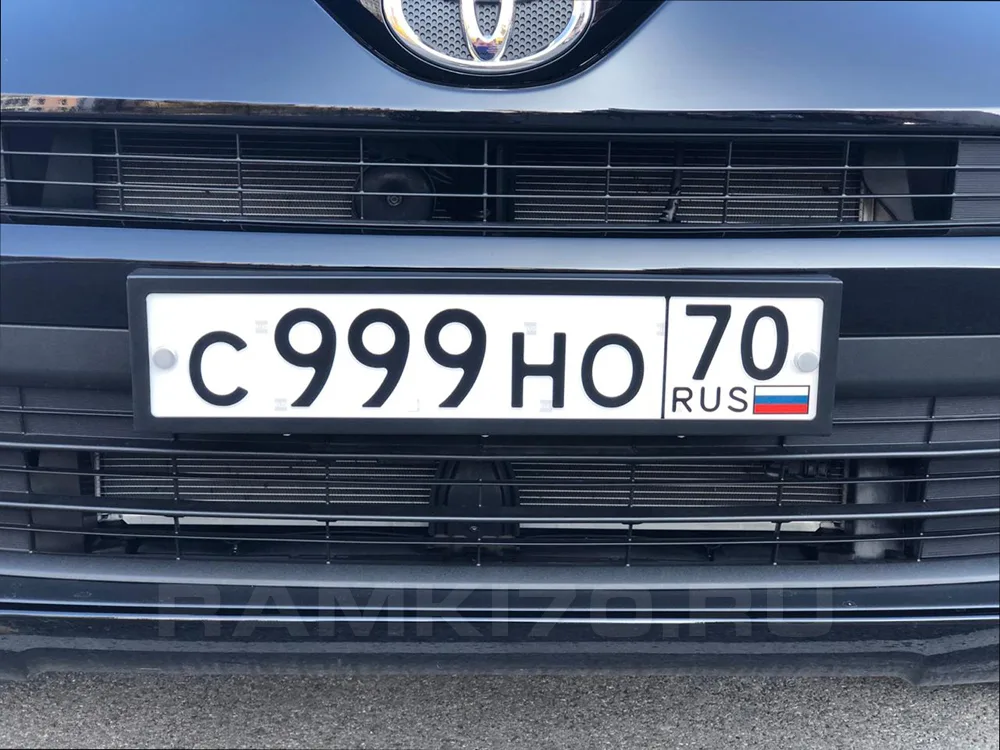number_plate: (152, 286, 832, 423)
